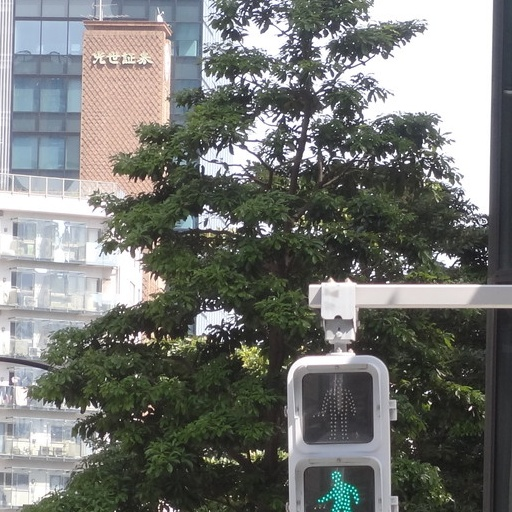Pedestrian_Signal_Blue: (283, 352, 391, 506)
